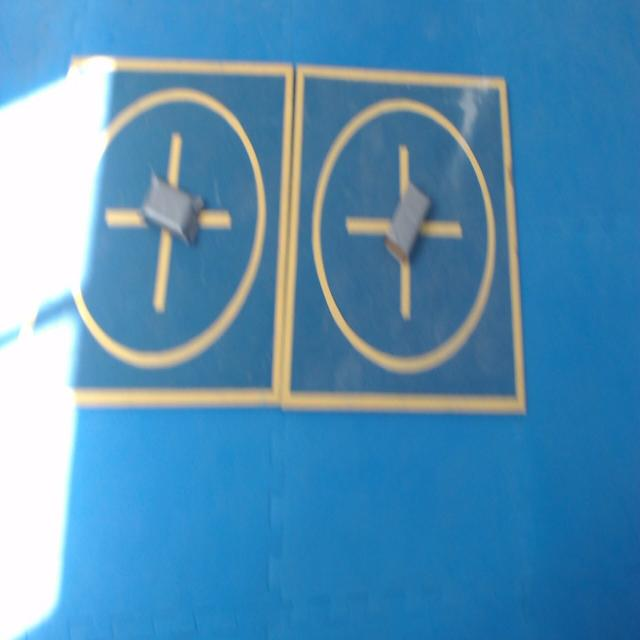direita: (386, 182, 430, 260)
esquerda: (142, 173, 203, 244)
